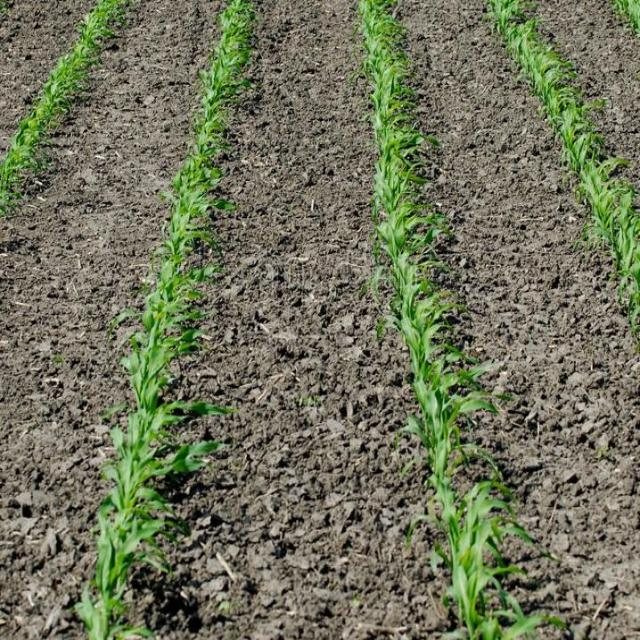row: (153, 2, 458, 640), (398, 0, 640, 640), (0, 1, 230, 640), (531, 0, 640, 210)
